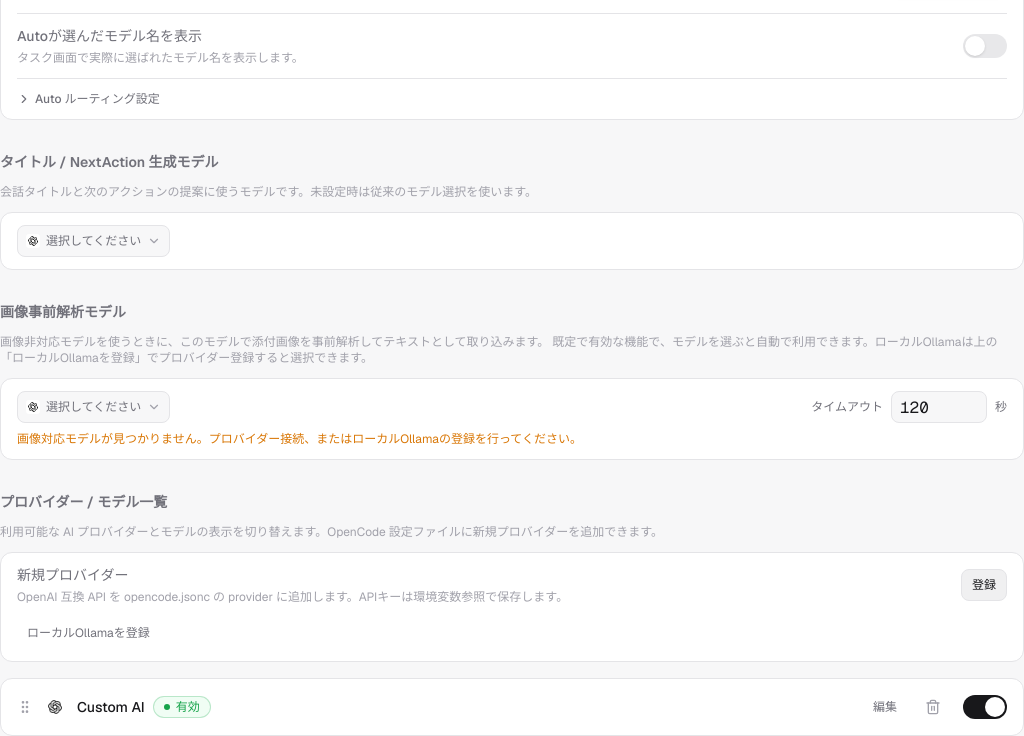
it: ProviderModelsSettings › deletes a configured provider via DELETE after confirmation
(page scrolled)
Click the button named "Custom AI を削除" at [935, 707], box [919,691,951,723]
(page scrolled)
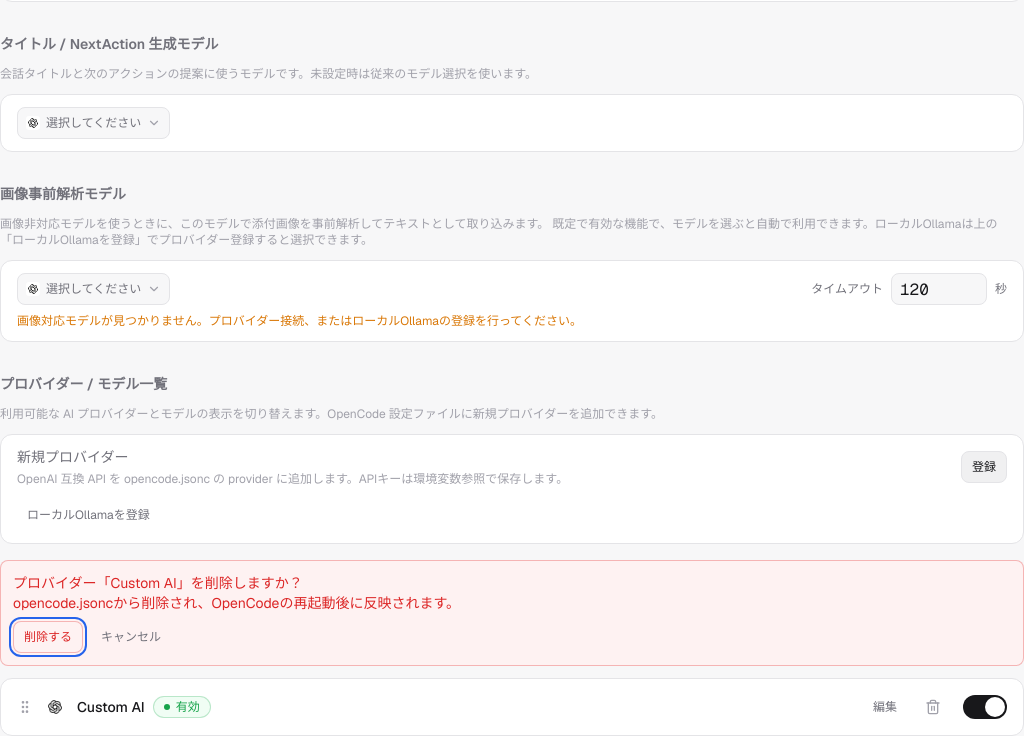
Expected: the dialog is shown, [0,560,1023,666]
Click the button "削除する" at [48, 637], box [13,621,83,653]
(page scrolled)
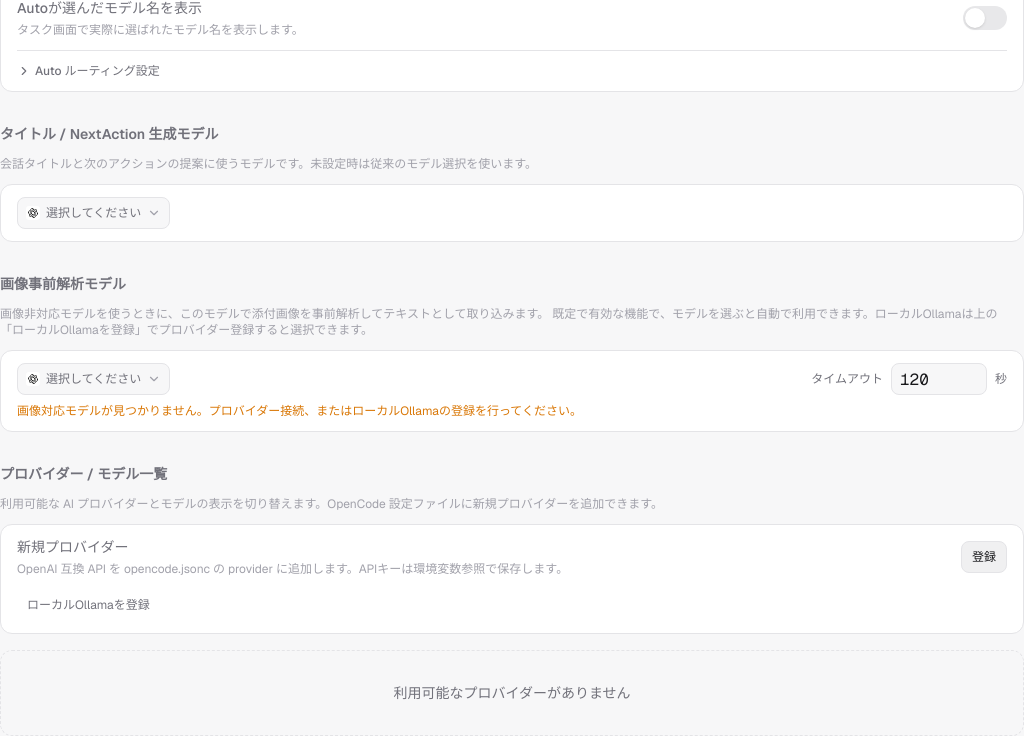
Expected: the text "Custom AI" is gone
